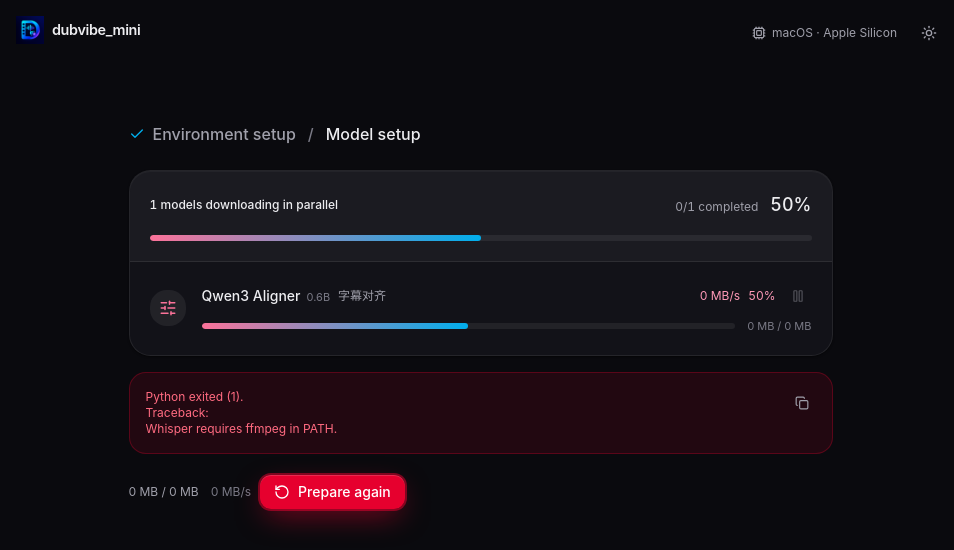
it: first-run setup › copies the complete setup error, including multiline diagnostics
Click the button named "Copy error".
click(802, 402)  # box [788,388,816,416]
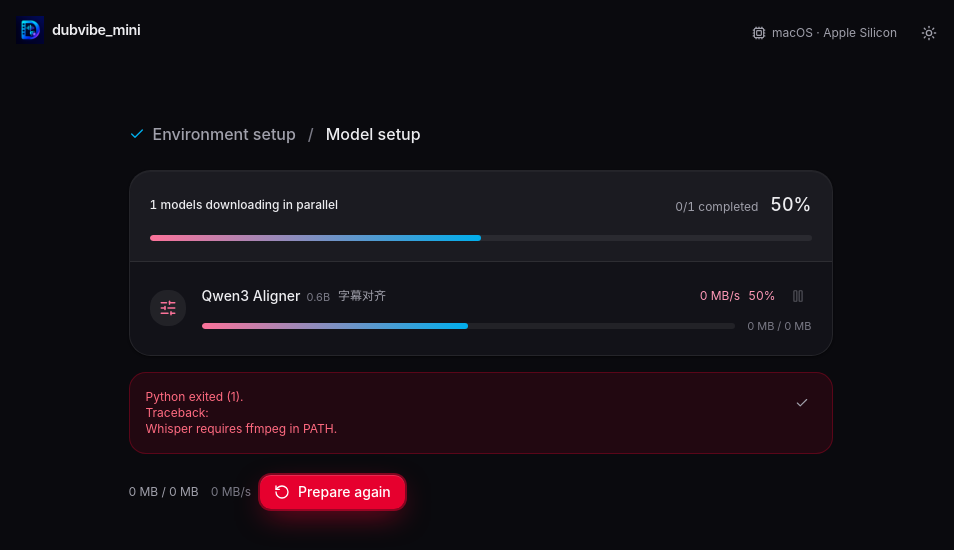
Expected: the message shows "Whisper requires ffmpeg in PATH.", [146,388,337,436]
Result: the button named "Copied" is shown at [788,388,816,416]
